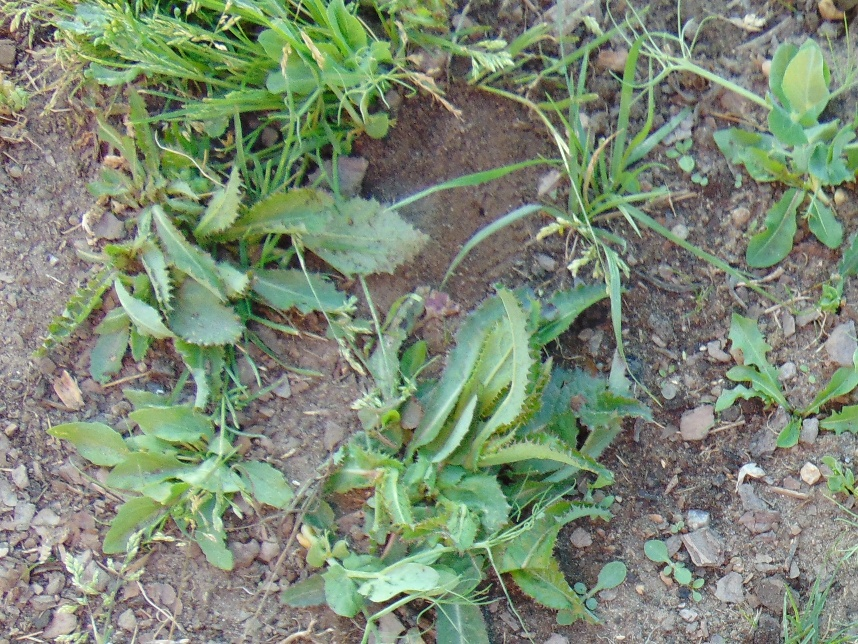crop: (649, 33, 858, 209), (297, 504, 529, 627), (252, 17, 416, 113)
weed: (81, 1, 430, 382), (310, 272, 657, 549), (41, 117, 292, 372), (49, 382, 302, 561), (513, 71, 671, 257), (440, 495, 633, 644), (721, 308, 858, 454), (712, 161, 854, 271), (1, 1, 141, 110), (774, 578, 858, 644), (551, 559, 635, 625), (645, 538, 703, 589)
